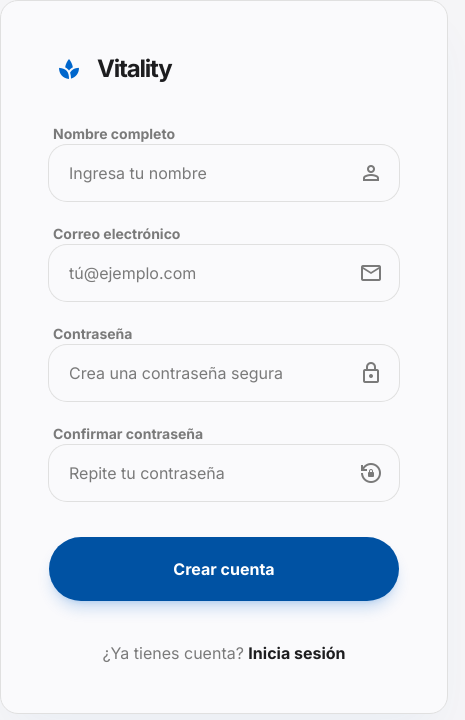
Scenario: RegistroForm › shows email validation error for invalid email
Step 1. Type "Test User" into the field with placeholder "Ingresa tu nombre" → (224, 173), box top-left (49, 145), bottom-right (399, 201)
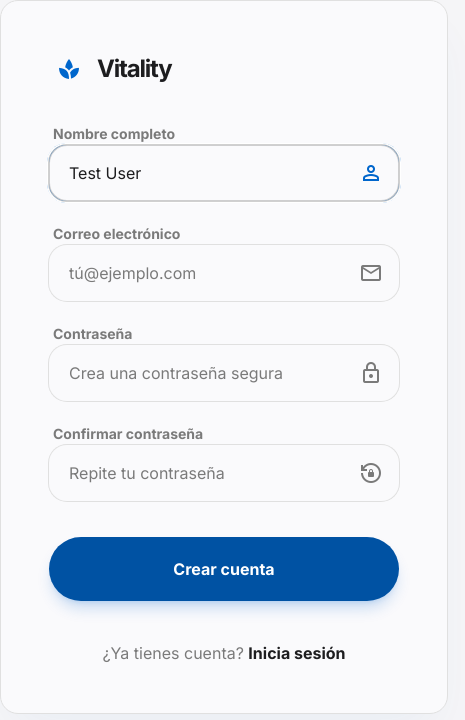
Step 2. Type "bad-email" into the field with placeholder "tú@ejemplo.com" → (224, 273), box top-left (49, 245), bottom-right (399, 301)
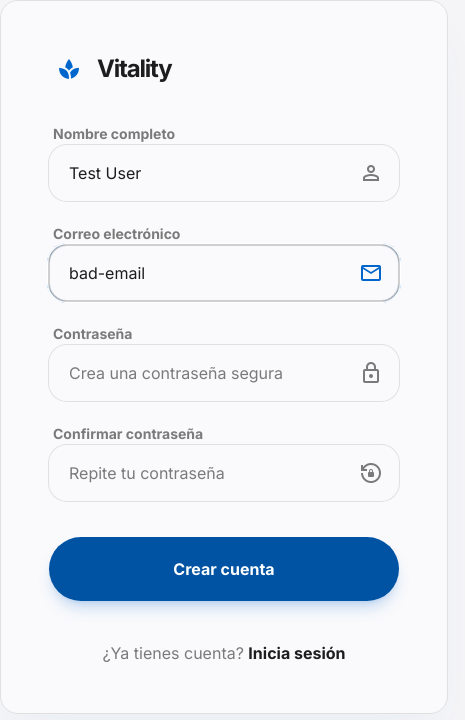
Step 3. Type "password123" into the password field with placeholder "Crea una contraseña segura" → (224, 373), box top-left (49, 345), bottom-right (399, 401)
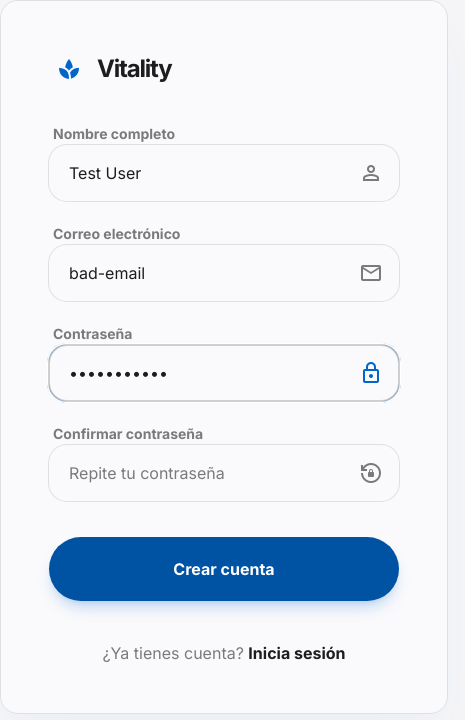
Step 4. Type "password123" into the password field with placeholder "Repite tu contraseña" → (224, 473), box top-left (49, 445), bottom-right (399, 501)
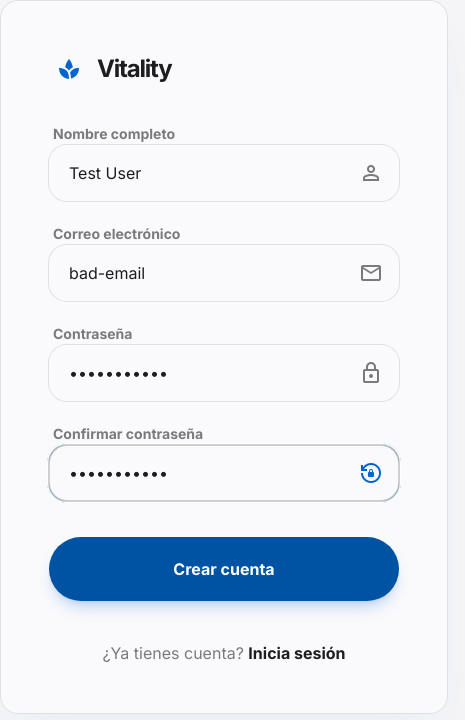
Step 5. Click the button "Crear cuenta" → (224, 569), box top-left (49, 537), bottom-right (399, 601)
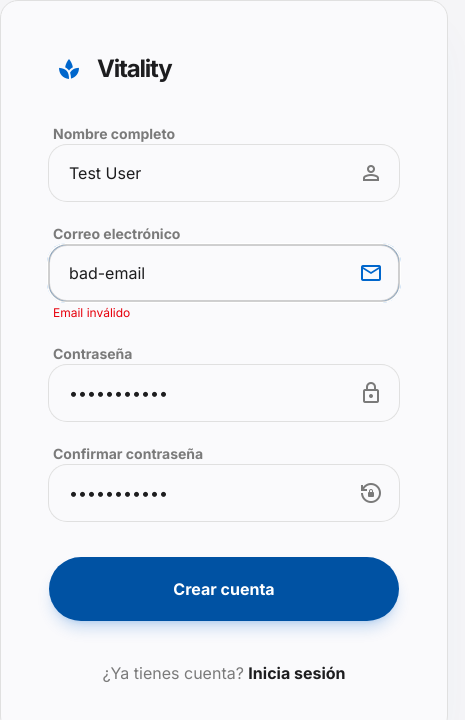
Expected: the text "Email inválido" is shown, top-left (53, 305), bottom-right (130, 320)
